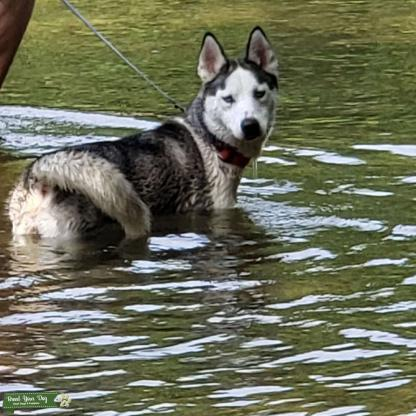dog: (8, 27, 284, 251)
